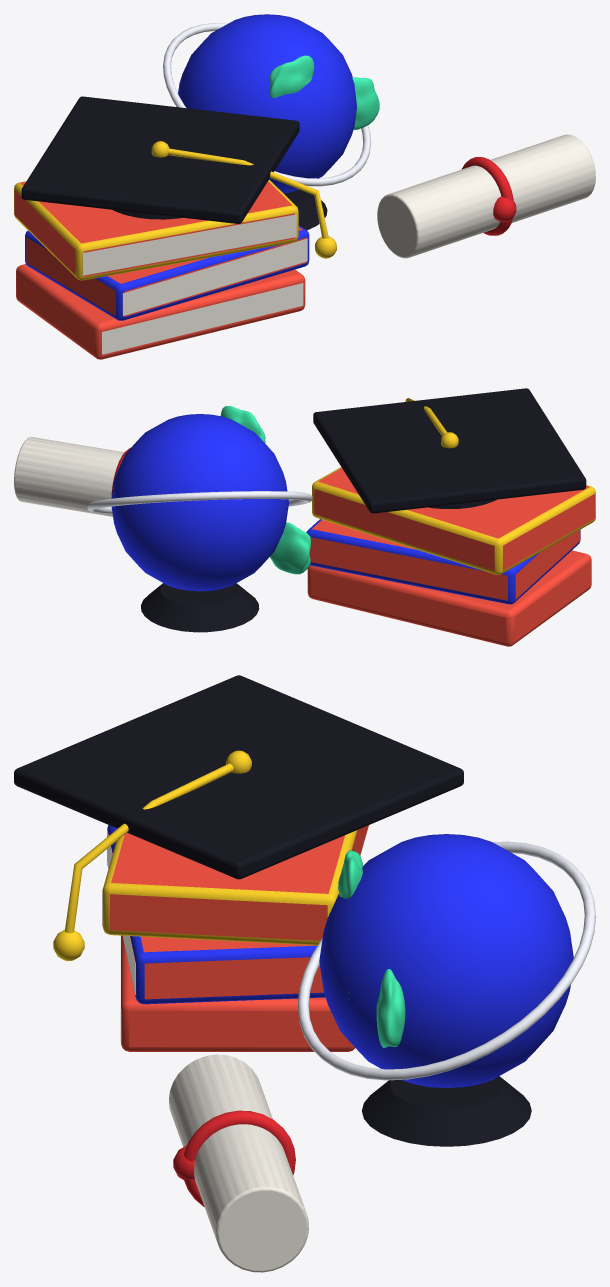
File: edu.glb
3 renders of one model, top to bottom at view 1: azimuth 30°, elevation 25°; view 2: azimuth 150°, elevation 25°; view 3: azimuth 270°, elevation 25°, orthographic. The views are drawn at different scales.
Visible parts, largest first — view 1: books, bob_cap, globe, diploma; view 2: books, globe, bob_cap, diploma; view 3: globe, bob_cap, books, diploma.
Boxes of the visible parts, box(x1,y1,x2,y2) form: books: box(14, 179, 309, 359); bob_cap: box(21, 96, 336, 258); globe: box(163, 14, 379, 230); diploma: box(377, 134, 595, 258); books: box(306, 467, 595, 646); globe: box(87, 406, 312, 632); bob_cap: box(313, 388, 586, 513); diploma: box(14, 437, 130, 516); globe: box(297, 834, 595, 1146); bob_cap: box(14, 675, 463, 960); books: box(102, 825, 368, 1051); diploma: box(169, 1054, 308, 1272).
Size of the model in its own units: 9.73 by 3.16 by 6.16.
